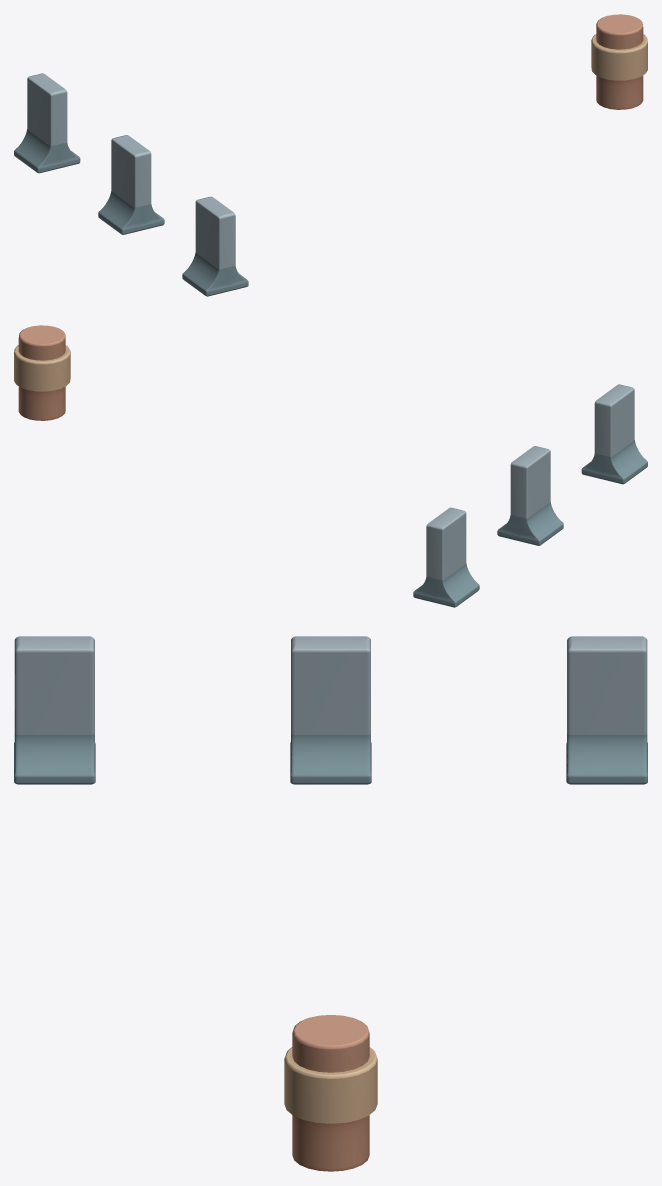
Rendered from Props.fbx.
The picture shows the model from 3 angles, top to bottom: view 1: azimuth 30°, elevation 25°; view 2: azimuth 150°, elevation 25°; view 3: azimuth 270°, elevation 25°; orthographic projection. The views are drawn at different scales.
Visible parts, largest first — view 1: 曲面单元 (×3), Cylinder-2; view 2: 曲面单元 (×3), Cylinder-2; view 3: 曲面单元 (×3), Cylinder-2.
Boxes of the visible parts, x1,y1,x2,y2 form: 曲面单元 (×3): (14,73,248,296); Cylinder-2: (591,14,647,109); 曲面单元 (×3): (413,384,647,607); Cylinder-2: (14,325,70,420); 曲面单元 (×3): (14,636,647,784); Cylinder-2: (284,1015,377,1171).
Size of the model in its own units: 36.67 by 5.15 by 22.95.
